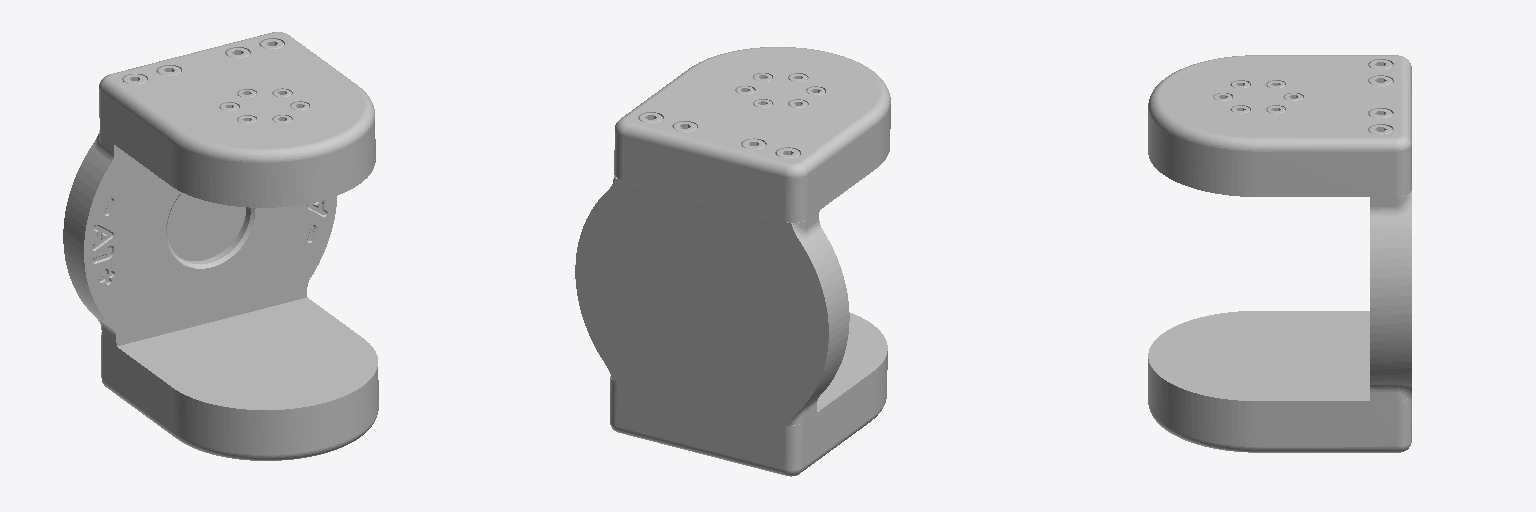
The picture shows the model from 3 angles: view 1: azimuth 30°, elevation 25°; view 2: azimuth 150°, elevation 25°; view 3: azimuth 270°, elevation 25°; orthographic projection.
Parts seen in each view (by area): view 1: Axis2; view 2: Axis2; view 3: Axis2.
Boxes of the visible parts, box(x1,y1,x2,y2) form: Axis2: box(63, 32, 378, 460); Axis2: box(575, 47, 890, 476); Axis2: box(1148, 55, 1411, 452).
Size of the model in its own units: 8.5 by 10.21 by 7.65.